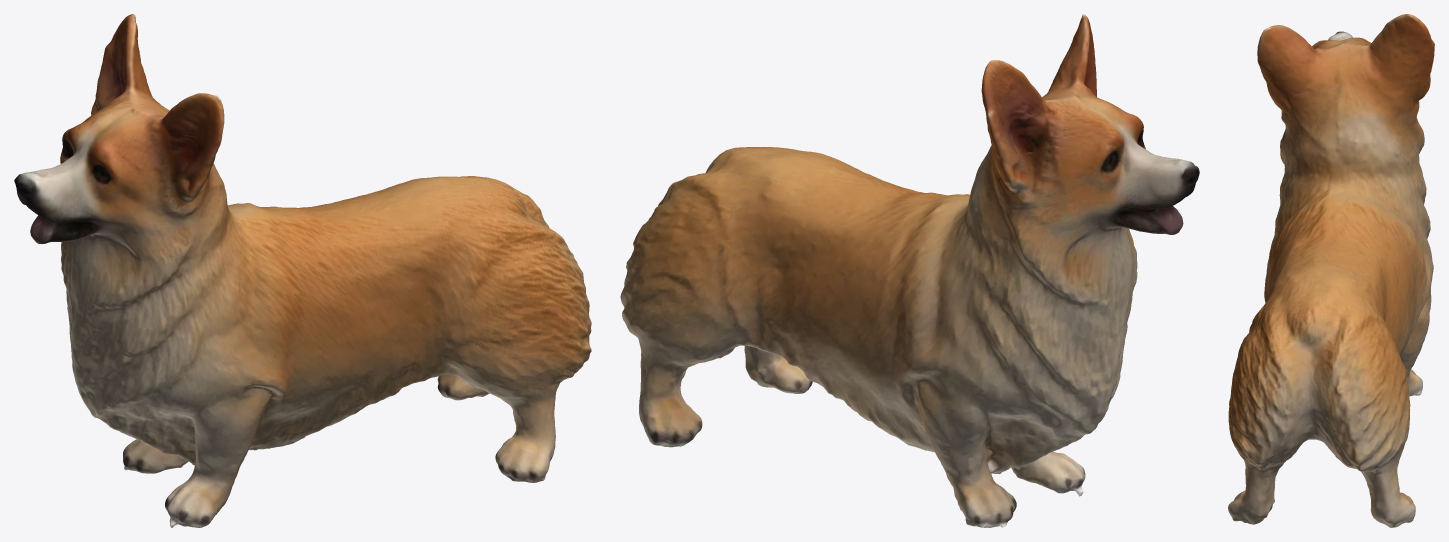
The model's file is chien_corgi.glb.
The picture shows the model from 3 angles, left to right: view 1: azimuth 30°, elevation 25°; view 2: azimuth 150°, elevation 25°; view 3: azimuth 270°, elevation 25°; orthographic projection. The views are drawn at different scales.
Visible parts, largest first — view 1: Object_2; view 2: Object_2; view 3: Object_2.
Part boxes in pixels (left/top/right/bottom): Object_2: left=14, top=14, right=591, bottom=527; Object_2: left=620, top=14, right=1199, bottom=527; Object_2: left=1228, top=14, right=1434, bottom=527.
Size of the model in its own units: 0.9378 by 0.7576 by 0.3702.
1 material, 1 textured.
